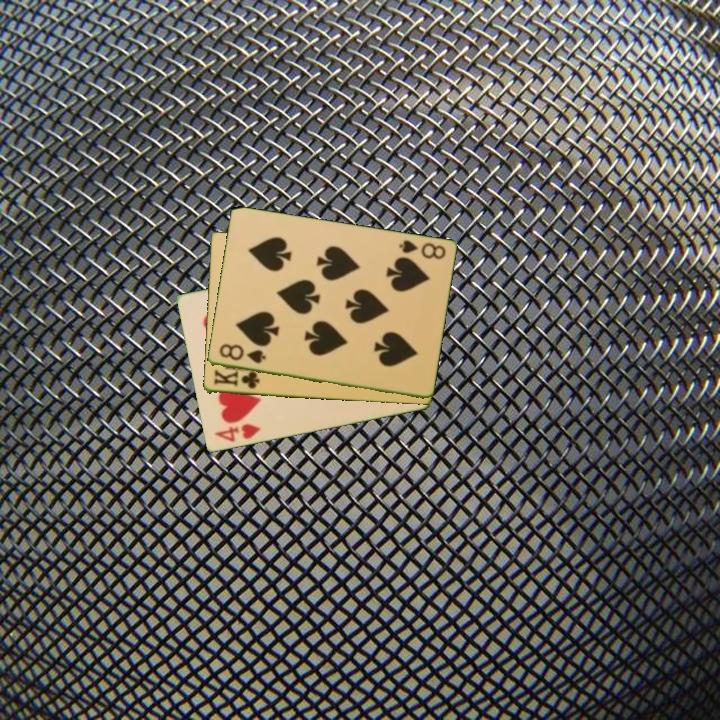4h: (211, 420, 263, 445)
8s: (215, 341, 268, 366), (395, 237, 448, 262)
Kc: (210, 367, 262, 392)
